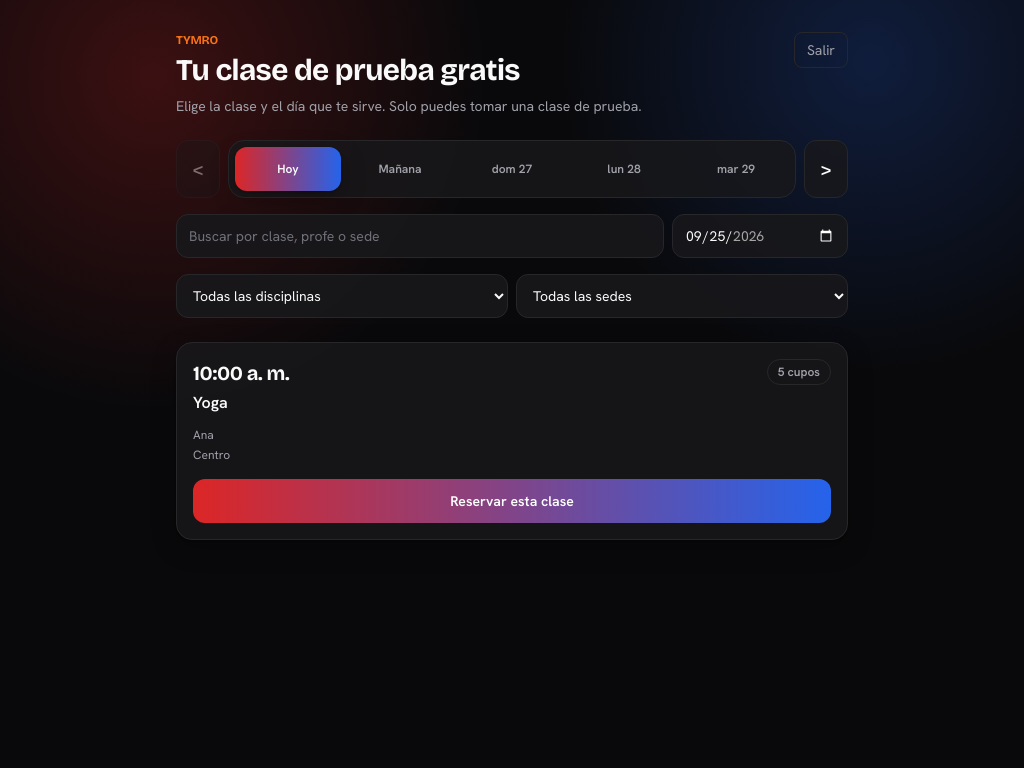
TrialBookingPage › tras reservar con éxito refresca la sesión (/me) para apagar el banner de prueba
Step 1. Click the button "Reservar esta clase" → (512, 501), box [193,479,831,523]
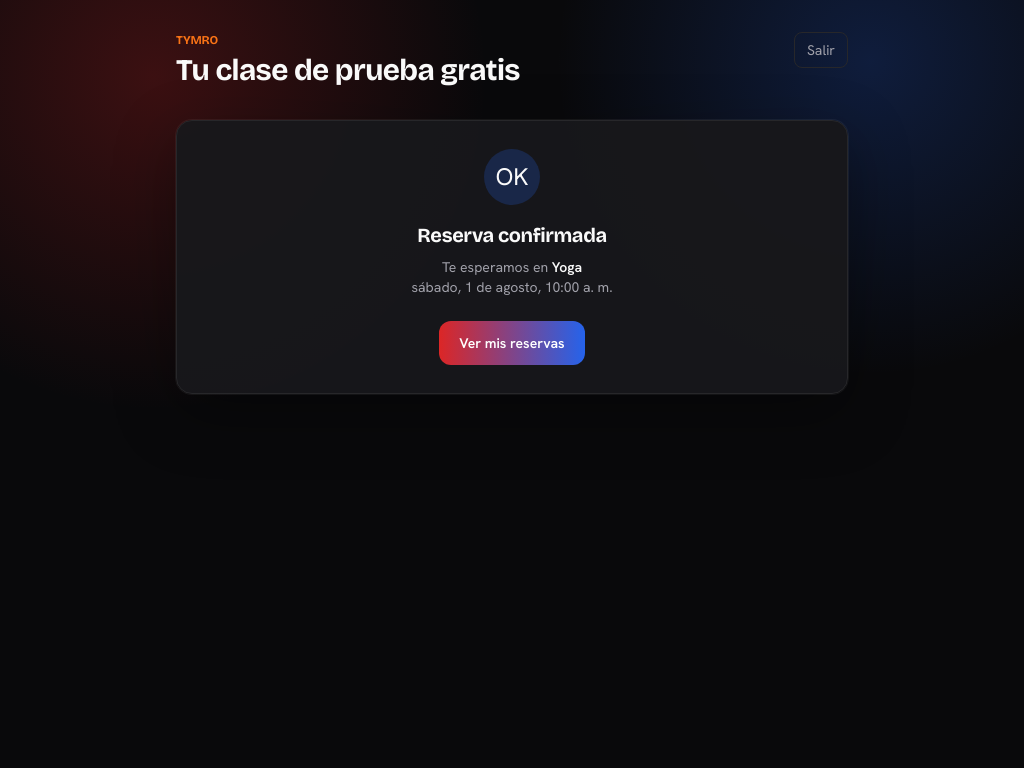
expect the heading "Reserva confirmada" is shown: met, box [417,223,607,247]
